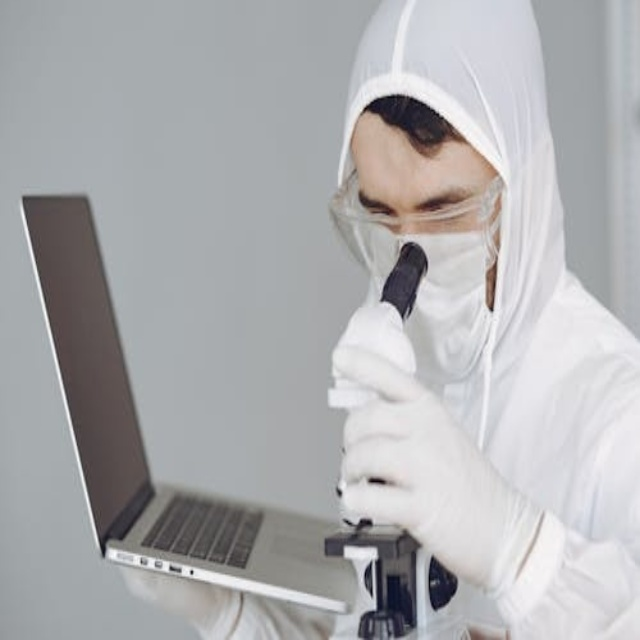Gafas: (331, 164, 505, 258)
Guantes: (323, 332, 545, 594)
Mascara: (352, 213, 504, 388)
